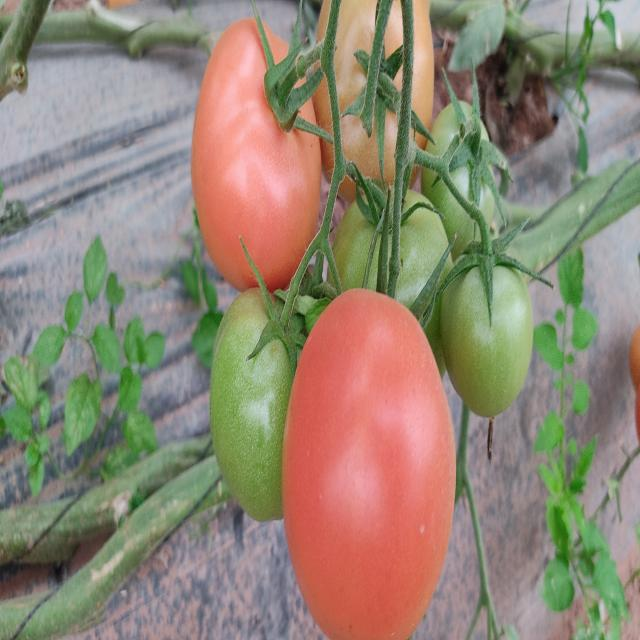Ripe Tomato: (286, 290, 456, 640), (194, 20, 323, 286)
Unripe Tomato: (205, 288, 311, 521), (312, 0, 433, 203), (445, 244, 535, 416), (423, 96, 494, 231)
